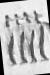W18: (1, 0, 50, 74)
